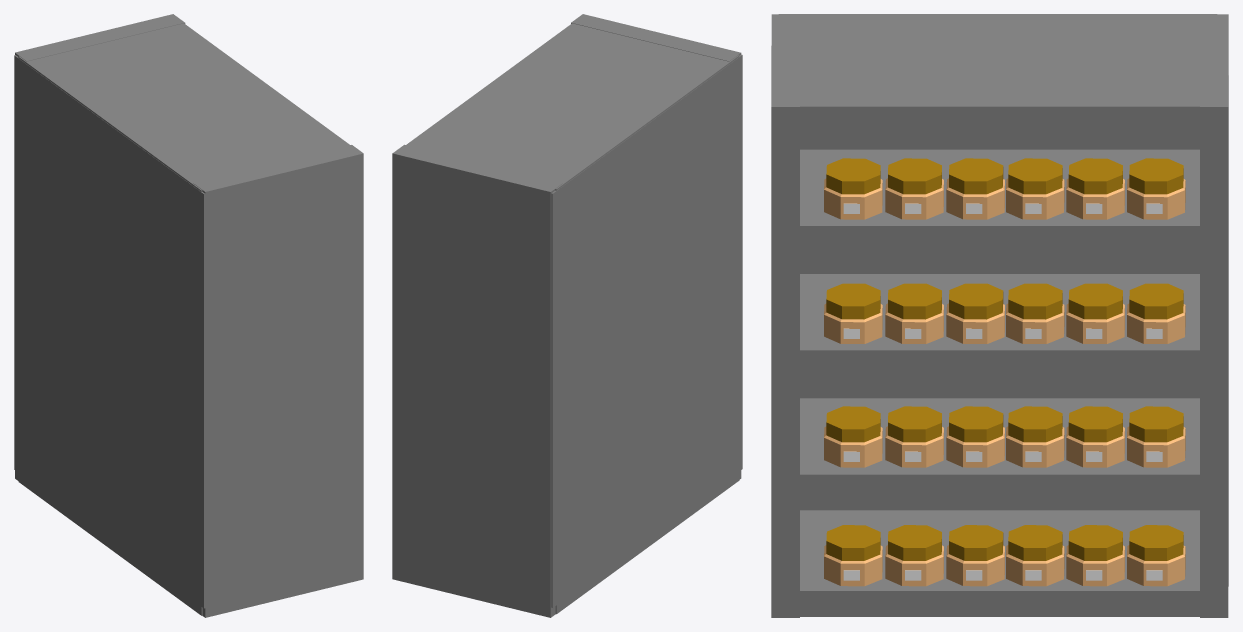
The model's file is peach_bodycream_shelf.gltf.
The picture shows the model from 3 angles, left to right: view 1: azimuth 30°, elevation 25°; view 2: azimuth 150°, elevation 25°; view 3: azimuth 270°, elevation 25°; orthographic projection. The views are drawn at different scales.
Visible parts, largest first — view 1: Cube; view 2: Cube; view 3: Cube.
Boxes of the visible parts, x1,y1,x2,y2 form: Cube: [14, 14, 363, 617]; Cube: [392, 14, 742, 617]; Cube: [771, 14, 1228, 617].
Bounding box in the file's own units: 4.03 × 10.28 × 8.34.
Materials: 4 (1 with a texture image).
